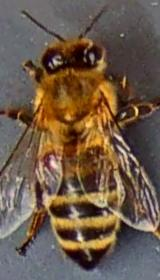varroa_mite: (29, 137, 68, 183)
